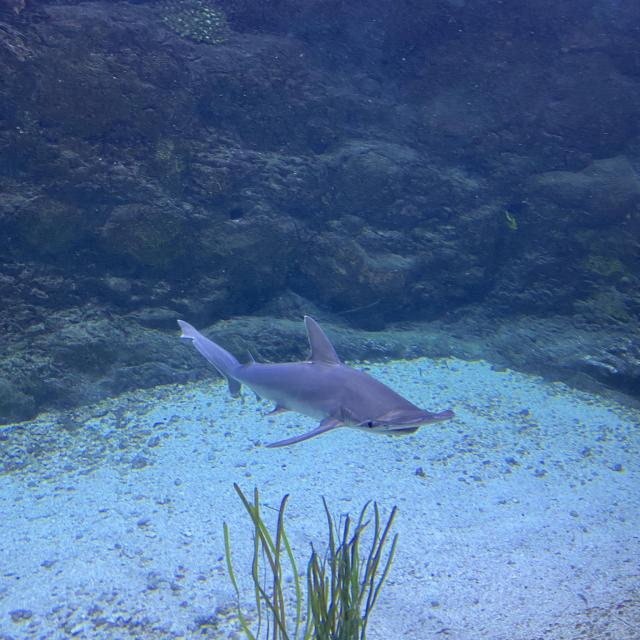shark: (178, 315, 455, 448)
